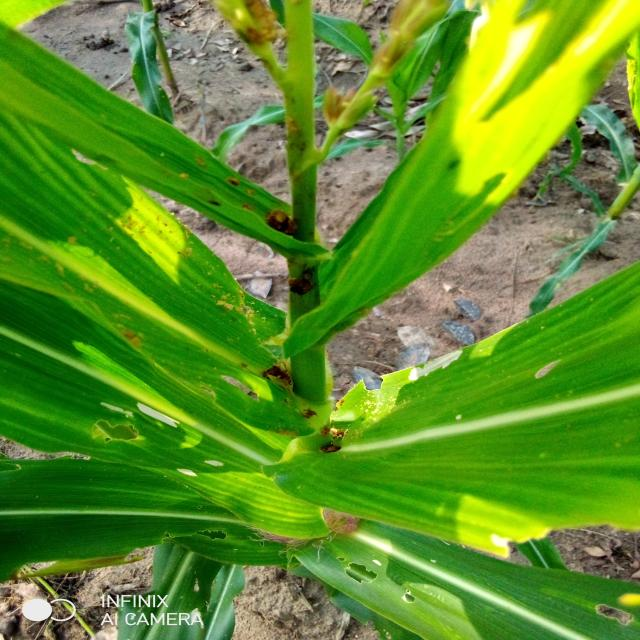fall-armyworm-egg: (18, 219, 280, 364), (195, 163, 318, 238), (283, 392, 404, 439), (221, 0, 283, 44), (287, 100, 319, 164)
fall-armyworm-larval-damage: (482, 503, 640, 571), (414, 151, 511, 233), (326, 552, 436, 610), (122, 528, 247, 568), (90, 402, 158, 442), (352, 356, 404, 403), (581, 592, 636, 635), (202, 367, 264, 402), (0, 548, 76, 573), (0, 449, 43, 477)
